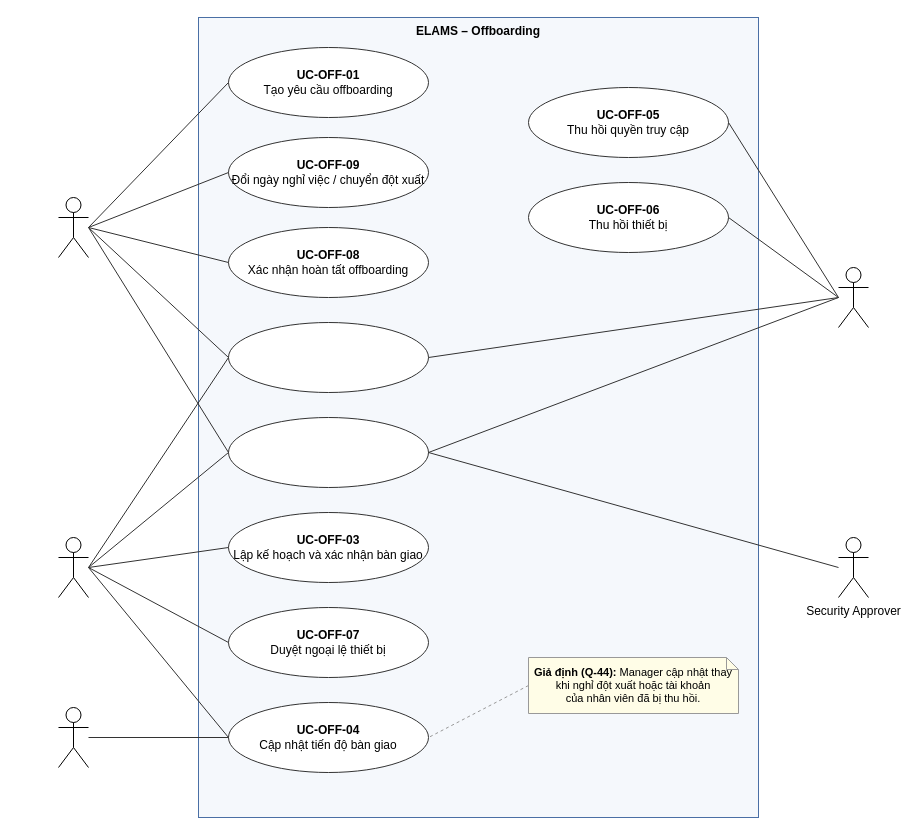
Image size: 918x835. Some labels were removed from this diagram. The box of each missing label's shape, as (x1, y1, x2, y2) in pixels:
Department Manager: (58, 536, 88, 598)
Employee (người nghỉ việc): (58, 706, 88, 768)
HR Staff: (58, 196, 88, 258)
IT Staff: (838, 266, 868, 328)
UC-OFF-02 Theo dõi tiến độ offboarding: (228, 322, 428, 392)
UC-OFF-10 Nhận cảnh báo quá hạn (Should): (228, 416, 428, 488)
